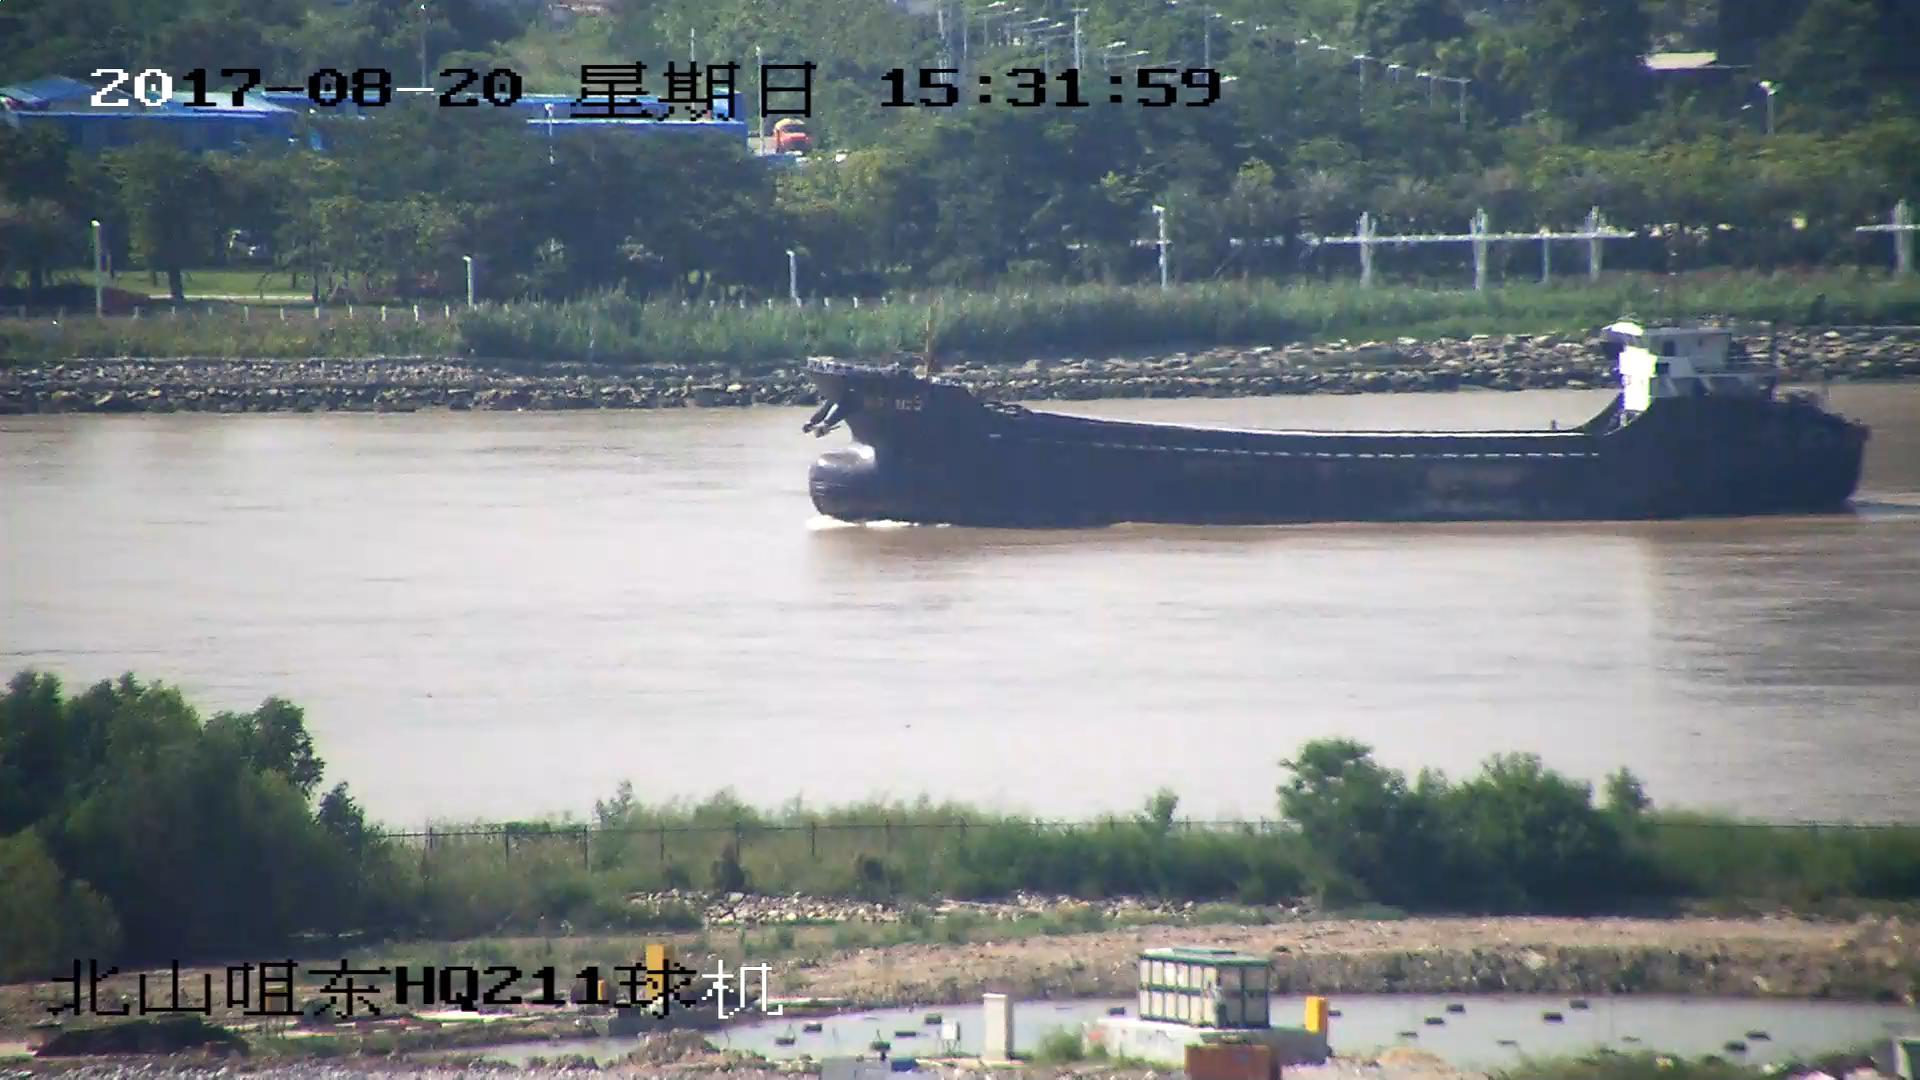Ship: (808, 313, 1862, 531)
